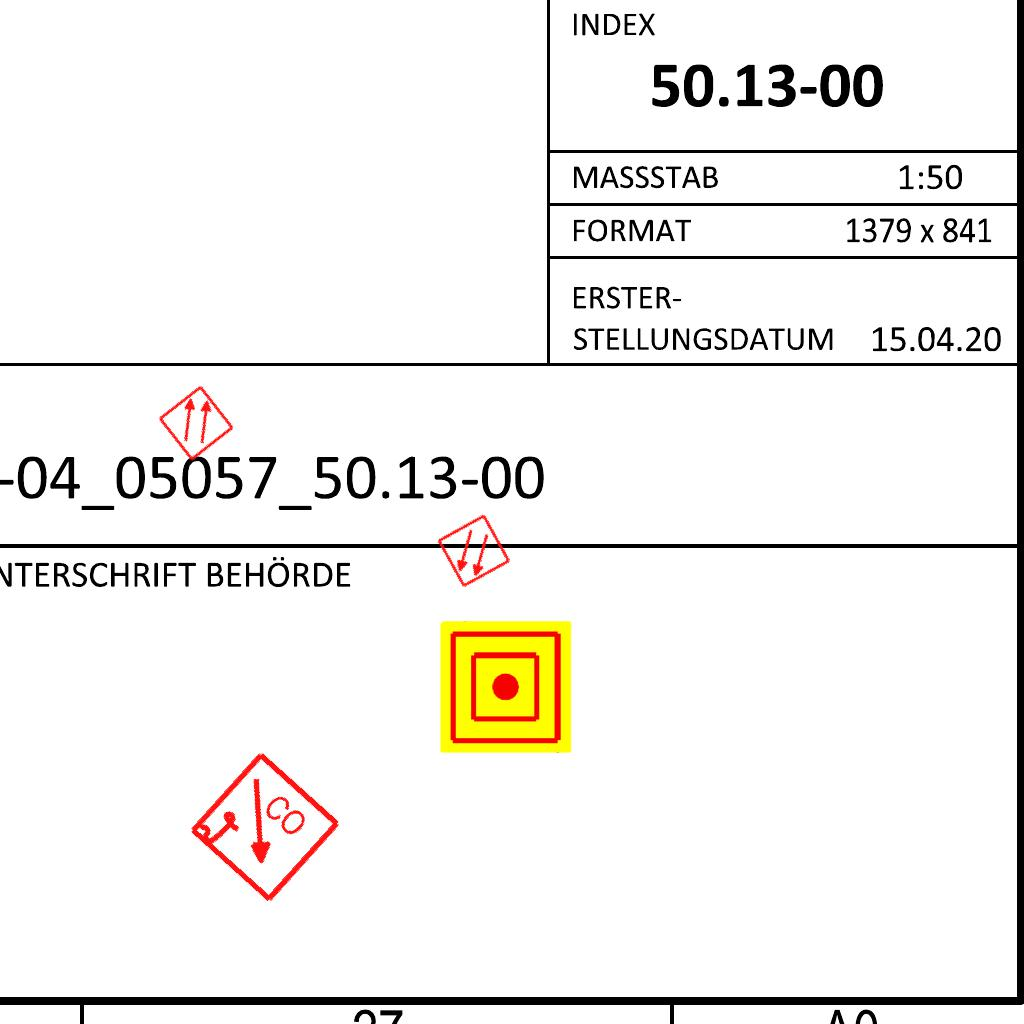NAM-Nichtautomatischer_Melder: (440, 621, 572, 753)
RMO_Rauchmelder_optischer: (156, 383, 236, 463), (435, 512, 513, 590)
ROA_Rauchmelder_optisch_mit_Signalgeber_(Sockelsirene): (184, 748, 345, 909)
